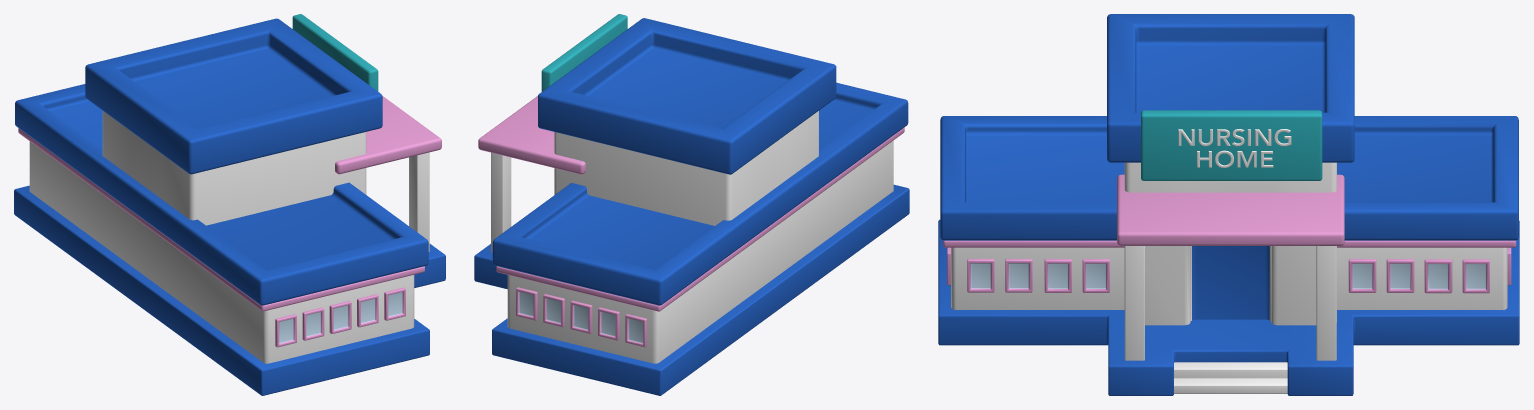
File: PIP_nursing-home-3d-9.glb
3 renders of one model, left to right at view 1: azimuth 30°, elevation 25°; view 2: azimuth 150°, elevation 25°; view 3: azimuth 270°, elevation 25°, orthographic. The views are drawn at different scales.
Parts seen in each view (by area): view 1: Cube.057, Cube.054, Cube.055, Cube.058, Cube.053, Cube.059, Cube.078, Cube.056, Cube.084, Cube.064; view 2: Cube.057, Cube.054, Cube.055, Cube.058, Cube.053, Cube.059, Cube.001, Cube.056, Cube.084, Cube.063; view 3: Cube.054, Cube.057, Cube.058, Cube.053, Cube.055, Cube.059, Cube.084, Cube.056, Cube.063, Cube.064, Cube.061, Cube.062 (+9 smaller).
Boxes of the visible parts, left/top/right/bottom form: Cube.057: left=85, top=18, right=382, bottom=174; Cube.054: left=15, top=84, right=428, bottom=305; Cube.055: left=29, top=141, right=414, bottom=363; Cube.058: left=14, top=185, right=445, bottom=395; Cube.053: left=102, top=111, right=366, bottom=225; Cube.059: left=335, top=96, right=441, bottom=174; Cube.078: left=275, top=287, right=405, bottom=347; Cube.056: left=18, top=128, right=424, bottom=311; Cube.084: left=292, top=14, right=378, bottom=91; Cube.064: left=409, top=152, right=429, bottom=251; Cube.057: left=538, top=18, right=836, bottom=174; Cube.054: left=492, top=82, right=908, bottom=305; Cube.055: left=507, top=140, right=893, bottom=363; Cube.058: left=474, top=184, right=909, bottom=395; Cube.053: left=554, top=111, right=818, bottom=225; Cube.059: left=478, top=96, right=585, bottom=174; Cube.001: left=516, top=287, right=646, bottom=347; Cube.056: left=496, top=127, right=904, bottom=311; Cube.084: left=541, top=14, right=627, bottom=91; Cube.063: left=491, top=152, right=511, bottom=252; Cube.054: left=940, top=116, right=1518, bottom=240; Cube.057: left=1107, top=14, right=1354, bottom=162; Cube.058: left=938, top=219, right=1519, bottom=395; Cube.053: left=1124, top=162, right=1336, bottom=325; Cube.055: left=951, top=247, right=1507, bottom=309; Cube.059: left=1117, top=174, right=1344, bottom=245; Cube.084: left=1141, top=110, right=1322, bottom=180; Cube.056: left=943, top=240, right=1516, bottom=247; Cube.063: left=1316, top=246, right=1336, bottom=360; Cube.064: left=1124, top=246, right=1144, bottom=360; Cube.061: left=1174, top=362, right=1287, bottom=378; Cube.062: left=1174, top=378, right=1287, bottom=393.
Size of the model in its own units: 0.8053 by 0.6402 by 1.34.
